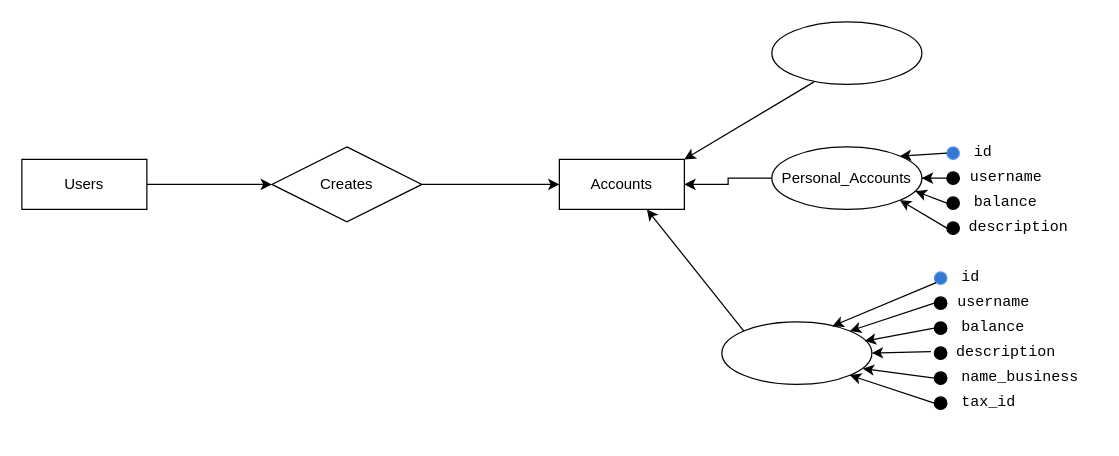
Image size: 1119x456. Some labels were removed from this diagram. The shapes that lost their labels are listed below. From the top down, each one's centre as x and y in pixels, then its label:
point (846, 52): Bank_Accounts
point (796, 352): Business_Accounts
